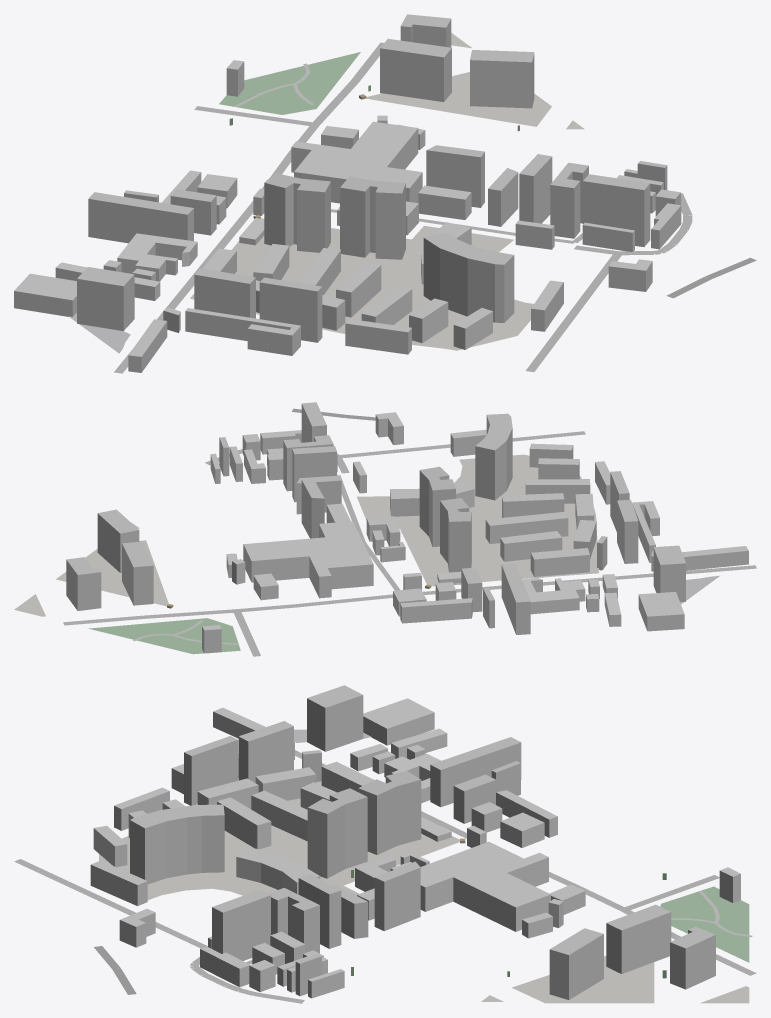
3 views of the same model, one above another, from view 1: azimuth 30°, elevation 25°; view 2: azimuth 150°, elevation 25°; view 3: azimuth 270°, elevation 25° (orthographic). The views are drawn at different scales.
Bounding box in the file's own units: 533 × 57.93 × 571.
